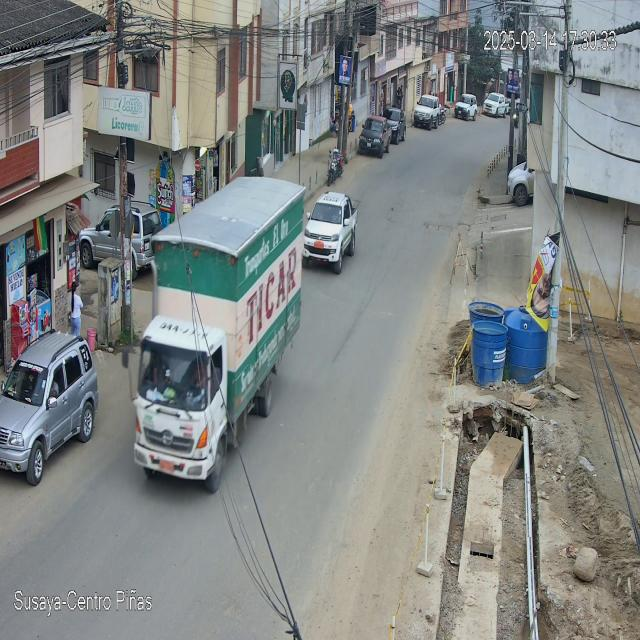CMT: (304, 192, 358, 274)
TRUCK: (132, 177, 306, 495)
